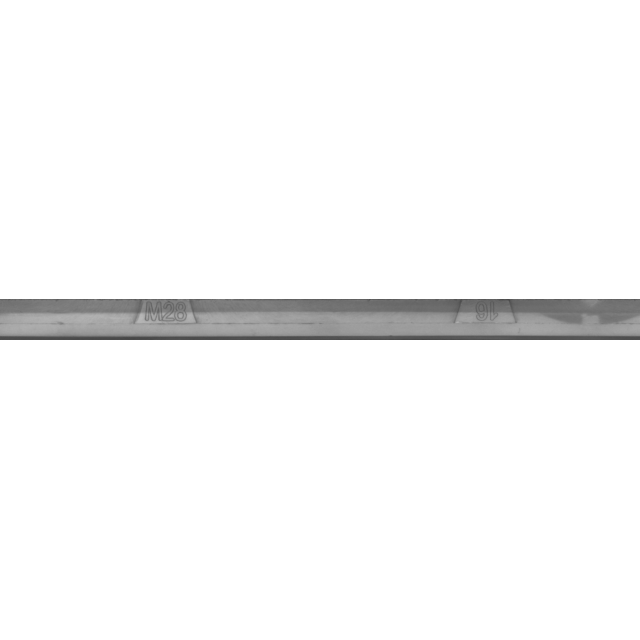mohao: (74, 270, 274, 370)
xuehao: (390, 270, 590, 370)
